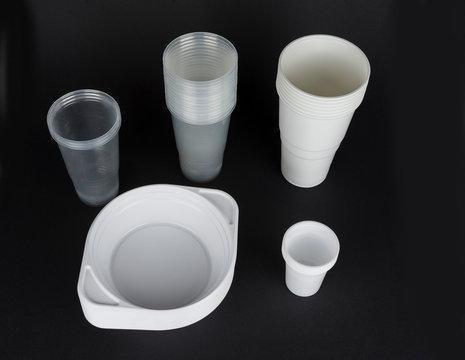cup-disposable: (274, 33, 371, 189), (162, 30, 239, 184), (46, 87, 122, 206), (279, 217, 342, 300)
